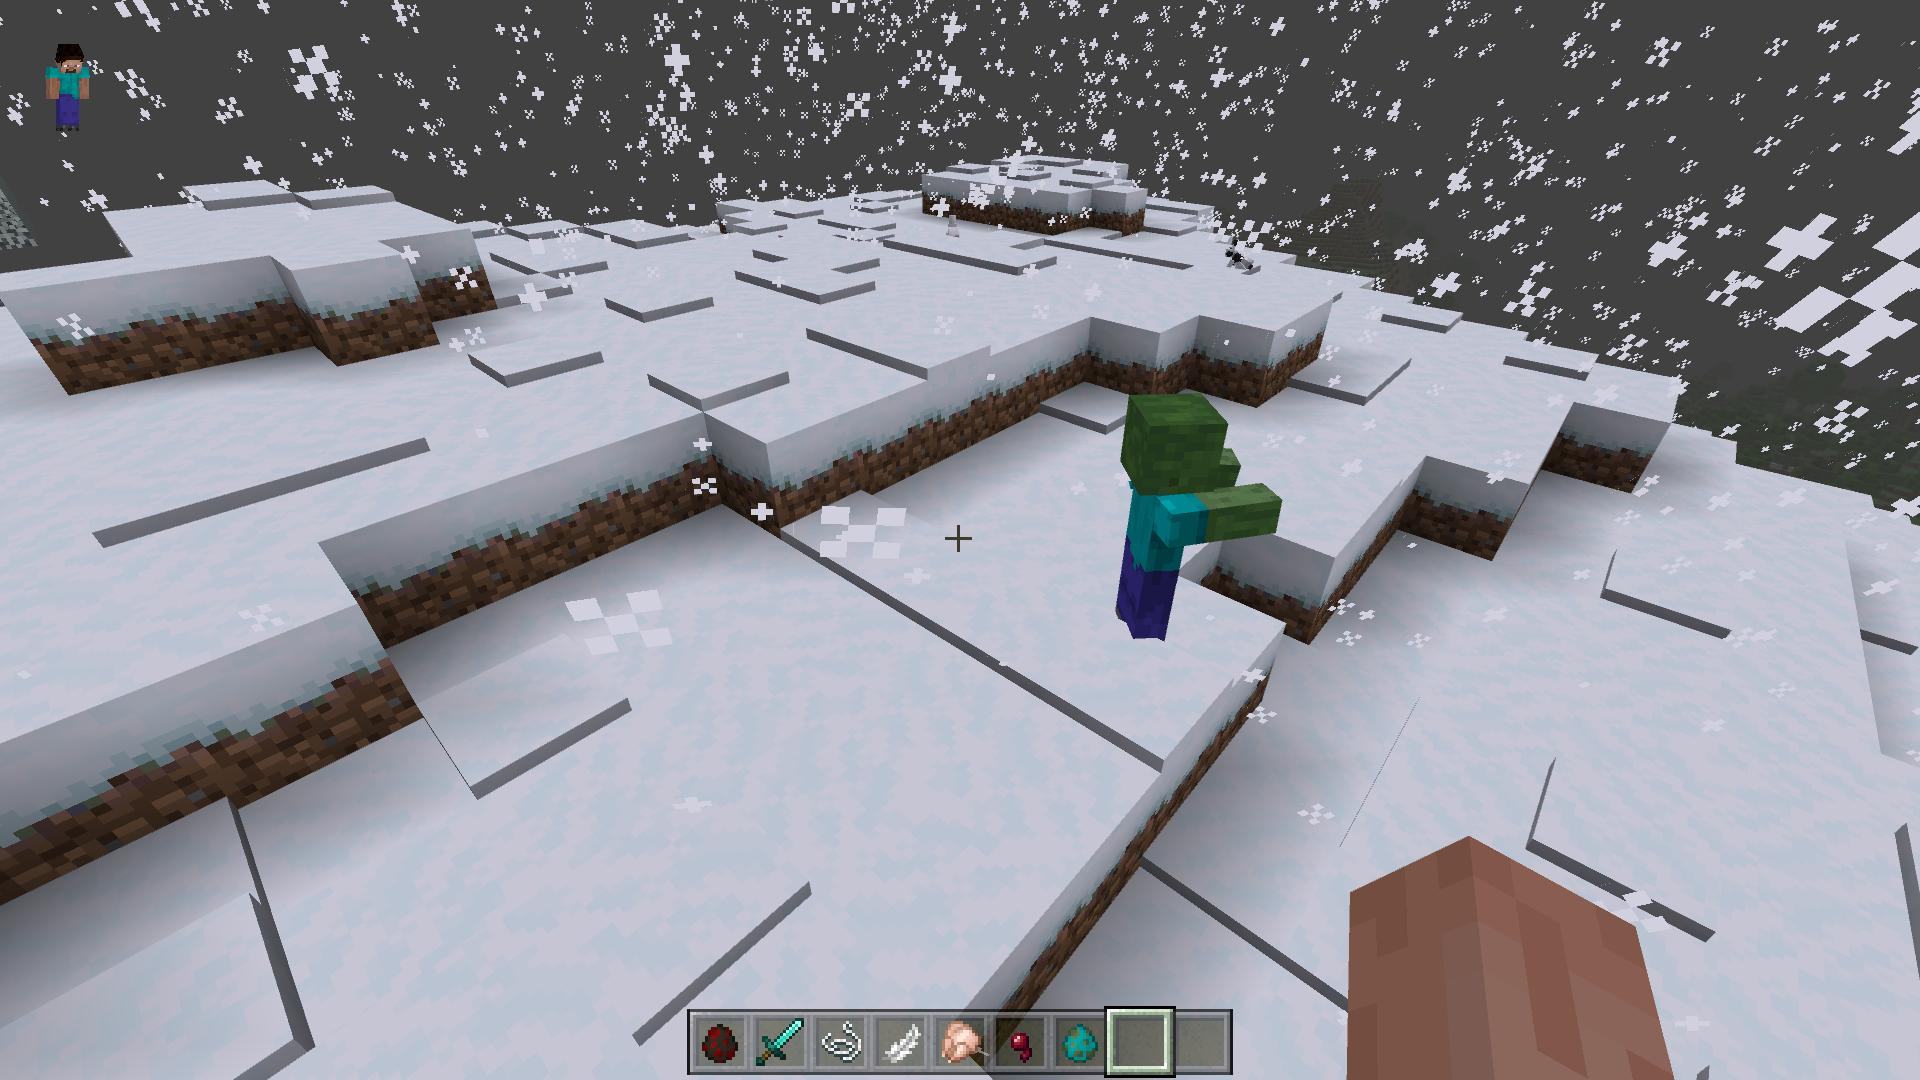zombie: (1113, 386, 1282, 650)
